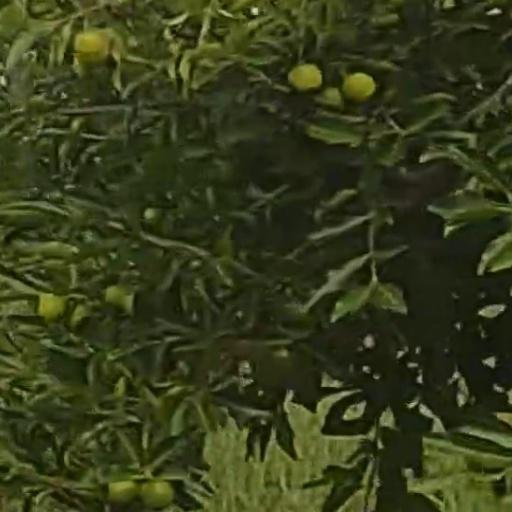acerola: (74, 30, 106, 64), (289, 65, 323, 90), (141, 482, 173, 507), (346, 75, 373, 102), (109, 480, 133, 507), (37, 293, 62, 318)
